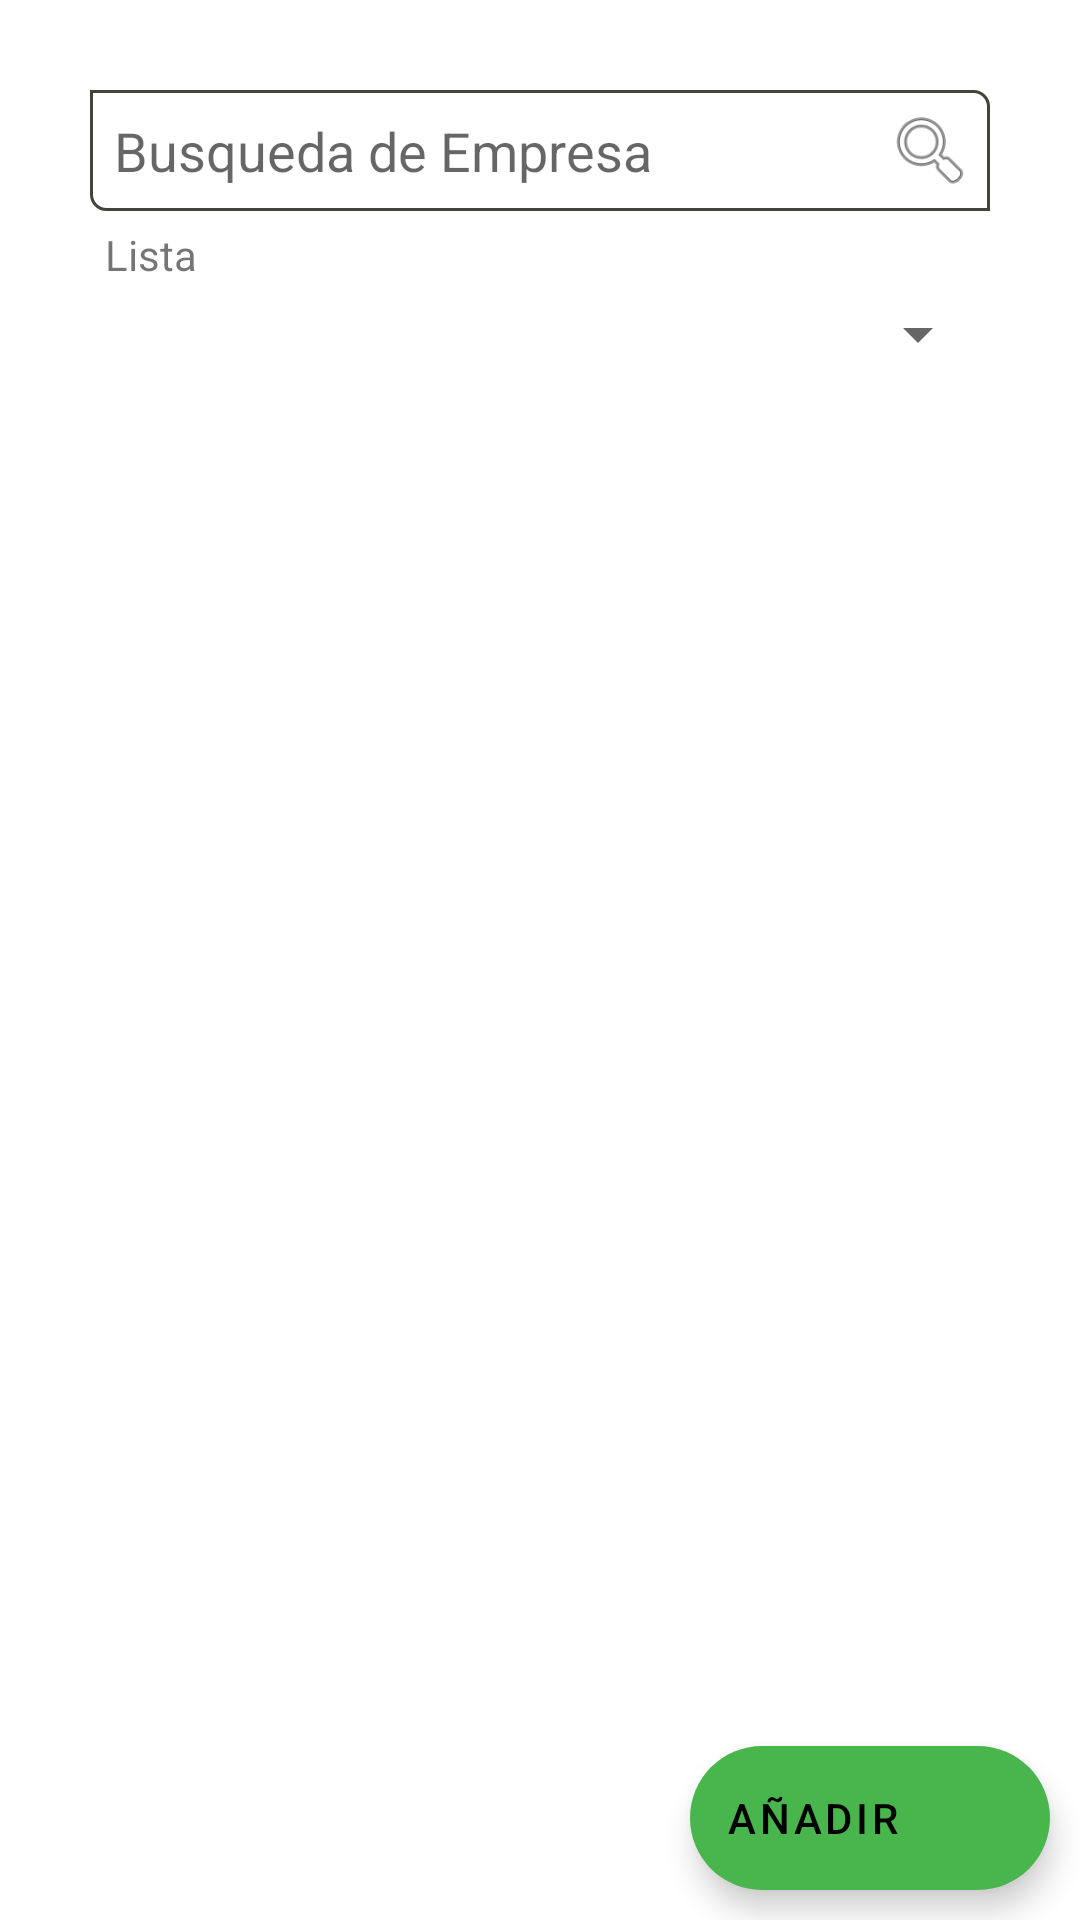

Icon click points for this 1080x1920 phone screenshot, format [x,y]:
search: [930,150]
